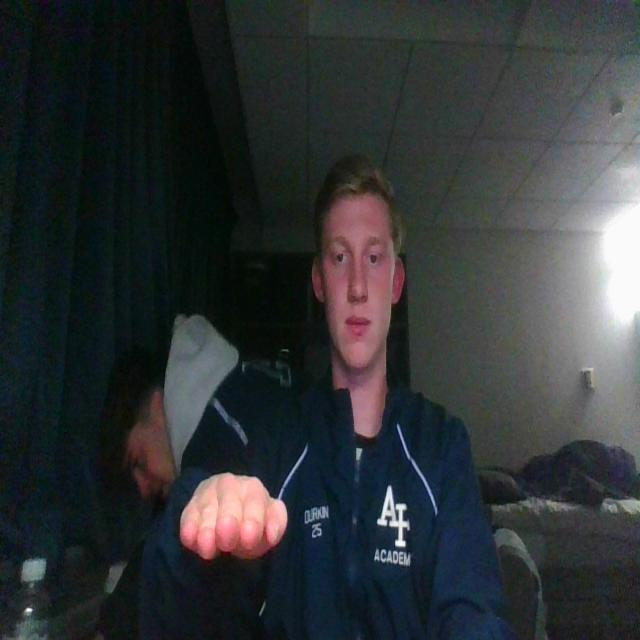paper: (176, 467, 291, 569)
